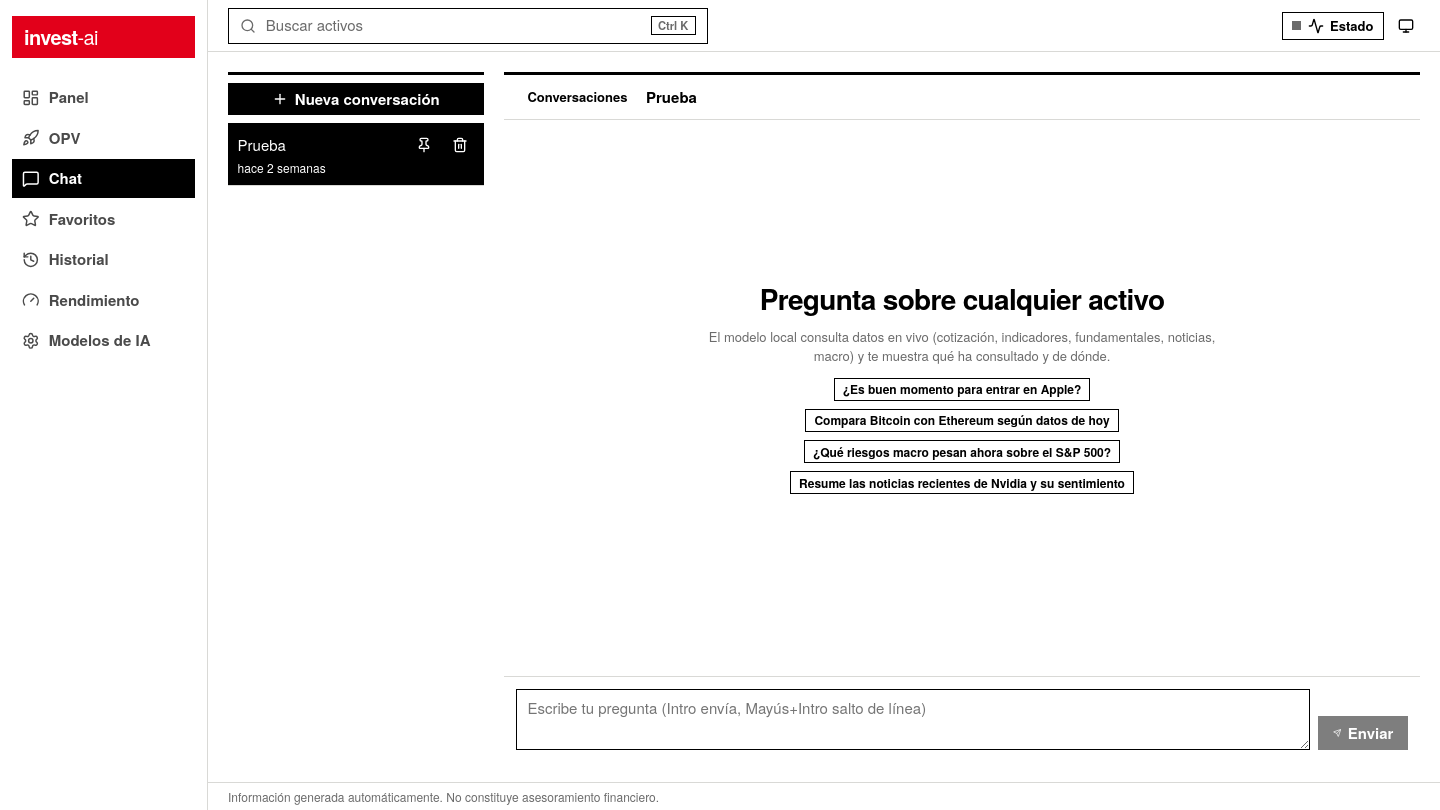
Test: ChatPage: una respuesta no se pinta dos veces › si el error llega sin que el servidor guarde nada, el aviso del error sigue visible
In the text box named "Mensaje": (913, 719) [516, 689, 1310, 750], type "hola"
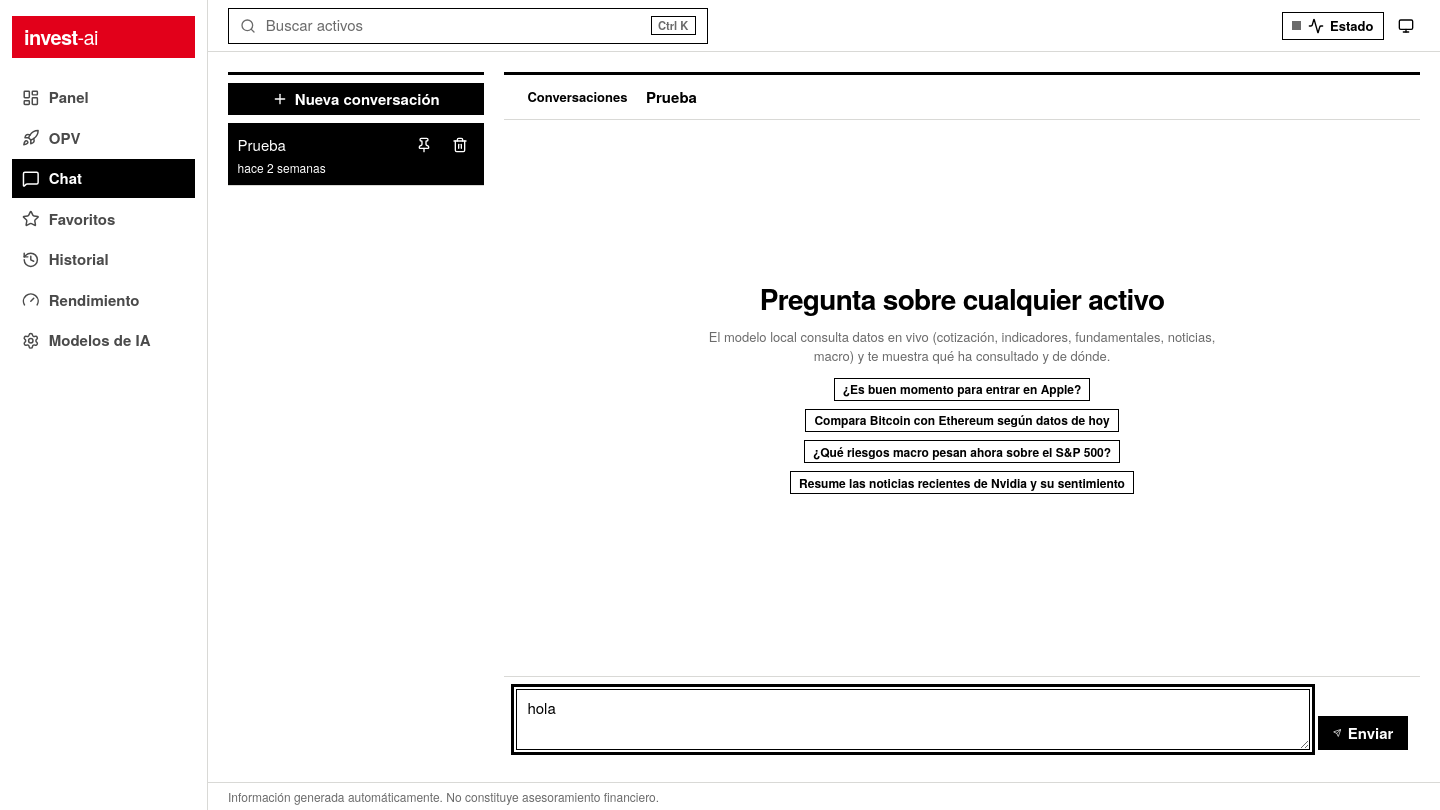
Click the button "Enviar": (1363, 733) [1318, 716, 1408, 750]
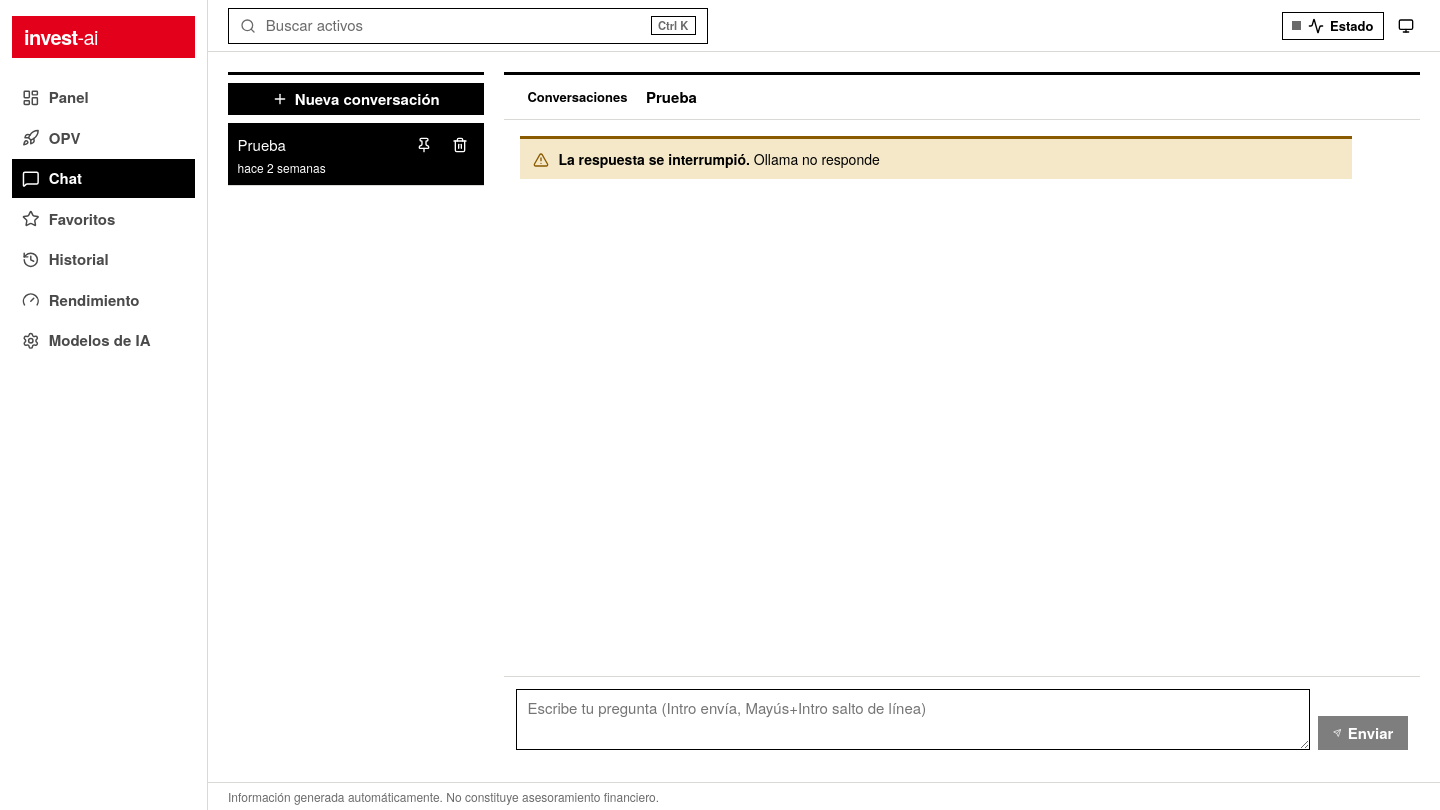
Now the text "La respuesta se interrumpió." is shown, box [558, 149, 754, 169]
Now the text "La respuesta se interrumpió. Ollama no responde" is shown, box [558, 149, 880, 169]
